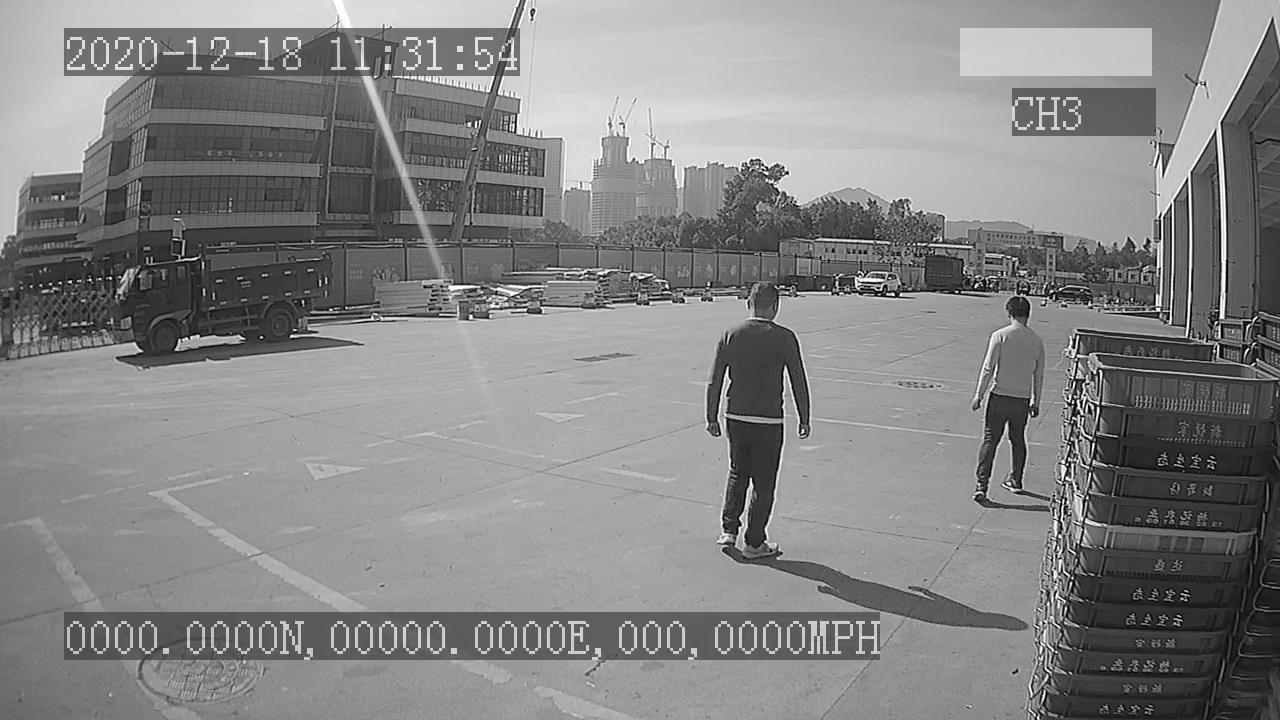person: (705, 283, 813, 571), (970, 292, 1047, 510)
